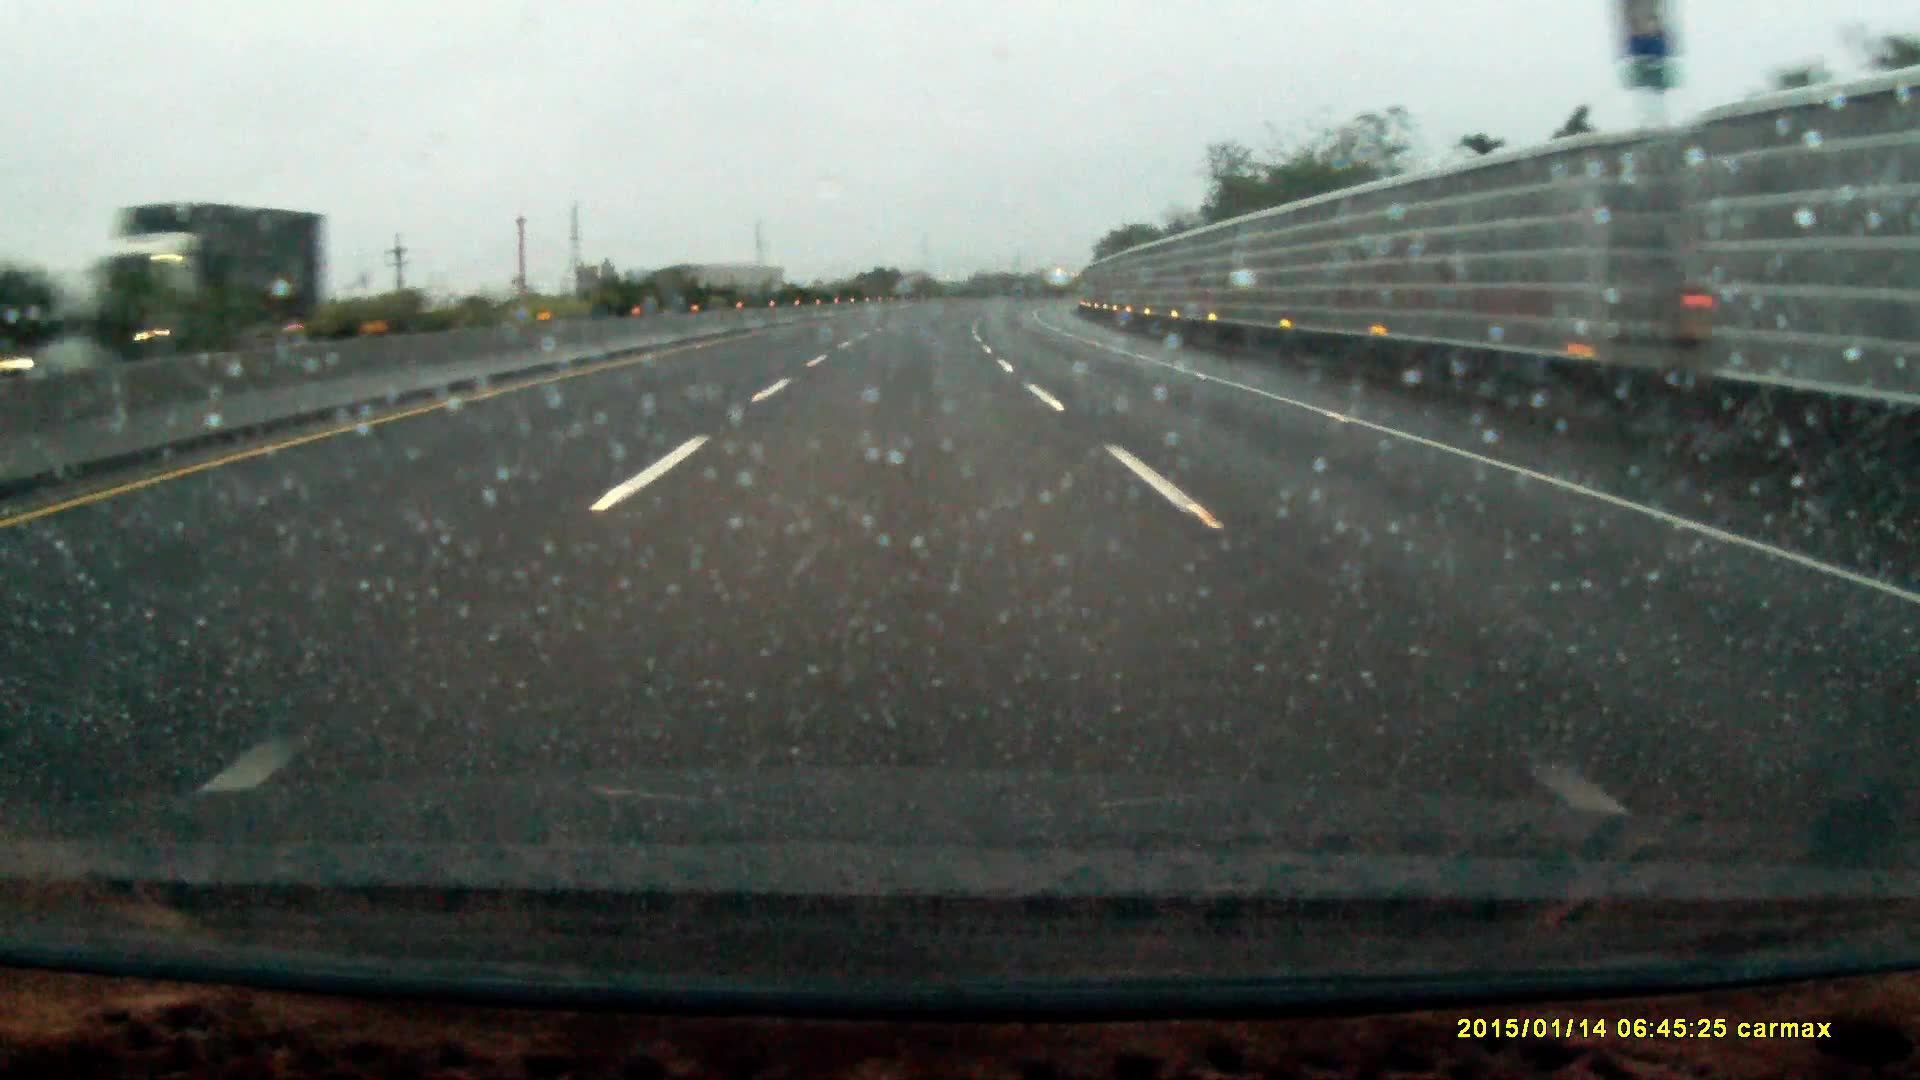vehicle: (109, 200, 327, 356)
